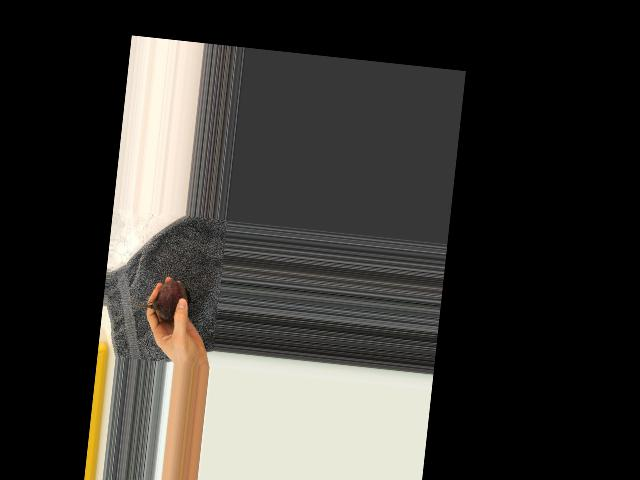beet: (127, 275, 193, 322)
